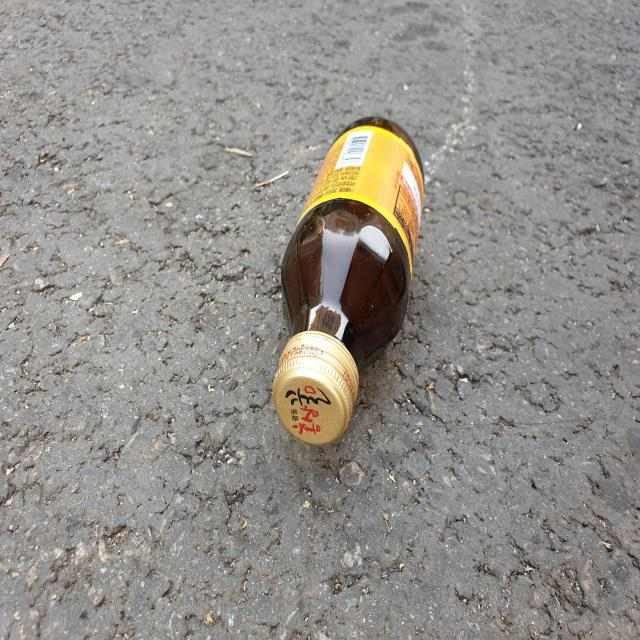glass: (272, 116, 424, 445)
